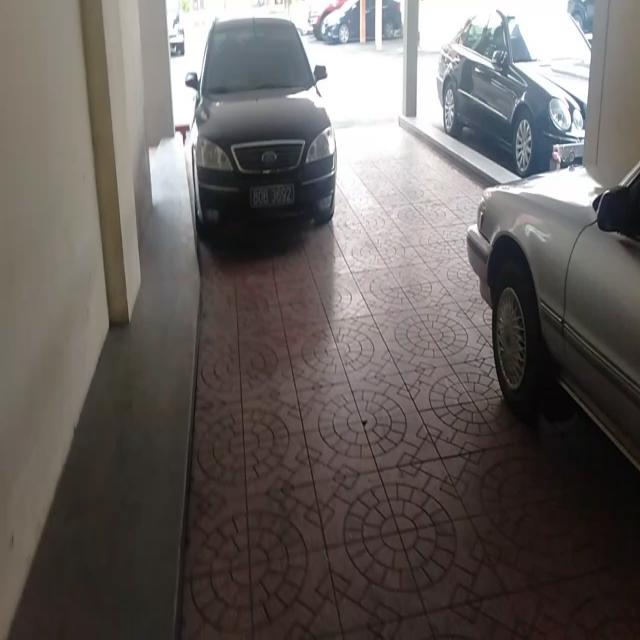bien_xanh: (252, 184, 296, 211)
